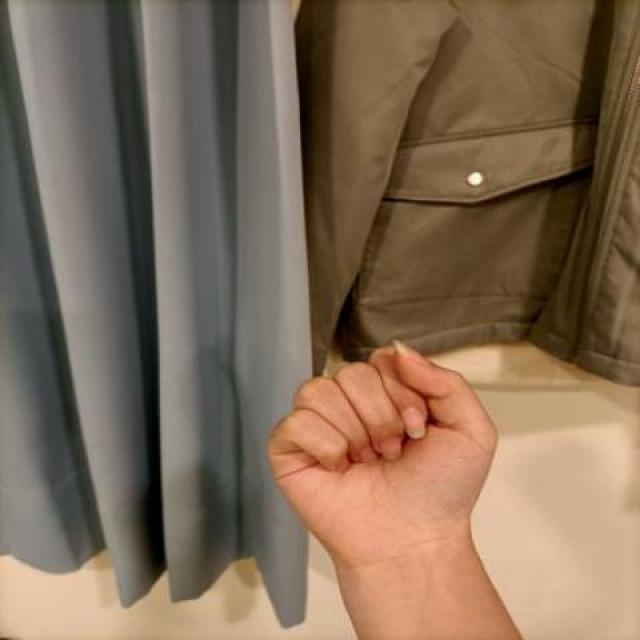Closed Hand: (257, 339, 503, 554)
